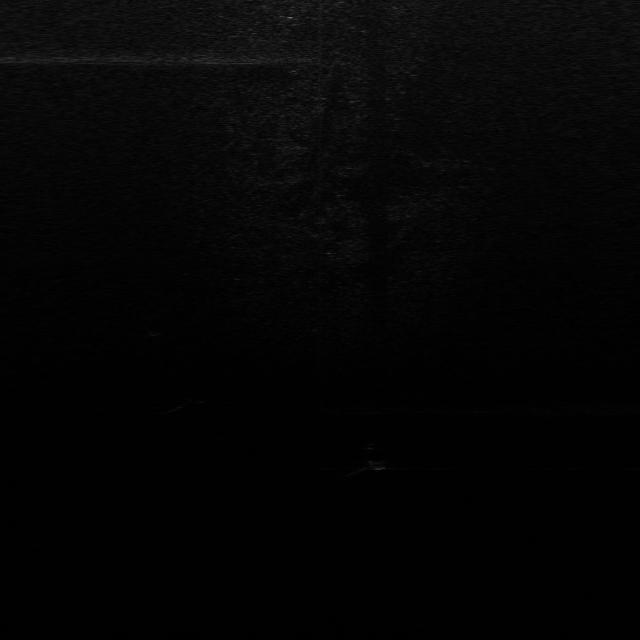ball: (182, 386, 213, 406)
circle cage: (140, 317, 170, 335)
tyre: (363, 438, 388, 471)
